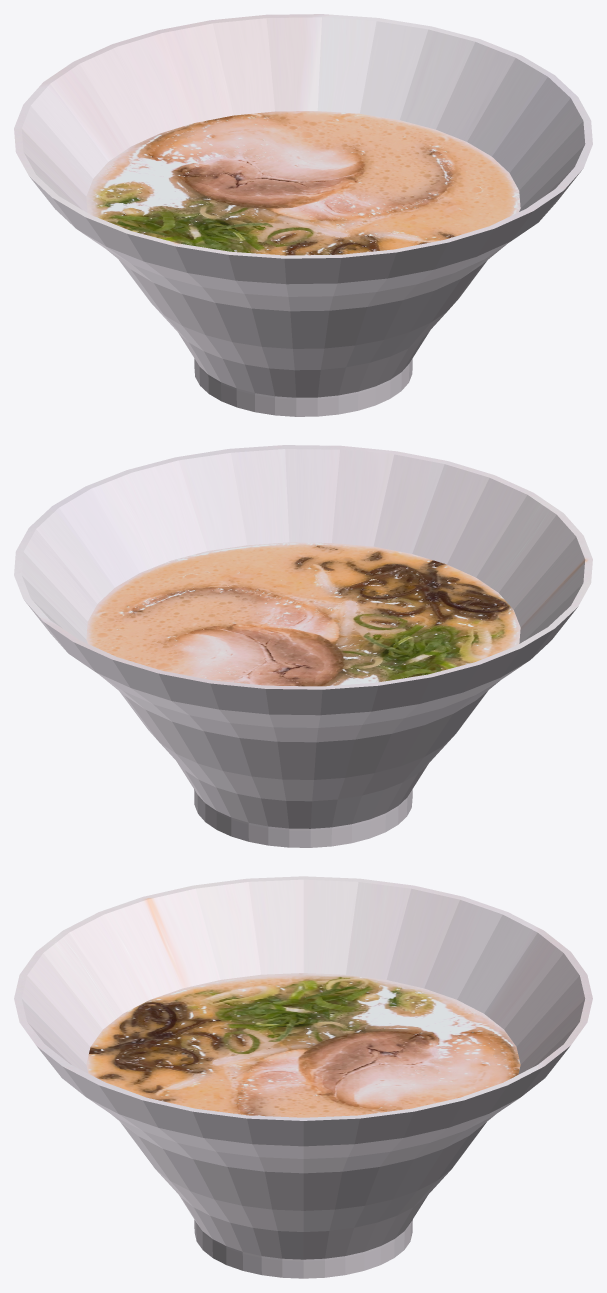
The model's file is ippudo_siro.fbx.
3 renders of one model, top to bottom at view 1: azimuth 30°, elevation 25°; view 2: azimuth 150°, elevation 25°; view 3: azimuth 270°, elevation 25°, orthographic.
Visible parts, largest first — view 1: Cylinder; view 2: Cylinder; view 3: Cylinder.
Part boxes in pixels (left/top/right/bottom): Cylinder: left=14, top=14, right=592, bottom=416; Cylinder: left=14, top=445, right=592, bottom=847; Cylinder: left=14, top=876, right=592, bottom=1278.
Size of the model in its own units: 832 by 371 by 832.
Materials: 1 (1 with a texture image).
